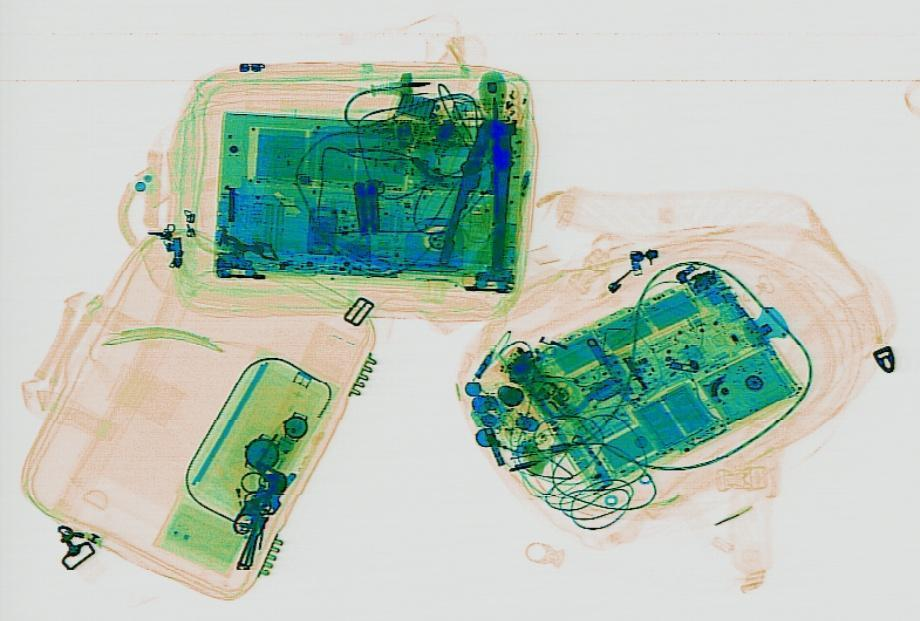Pliers: (436, 118, 527, 270)
